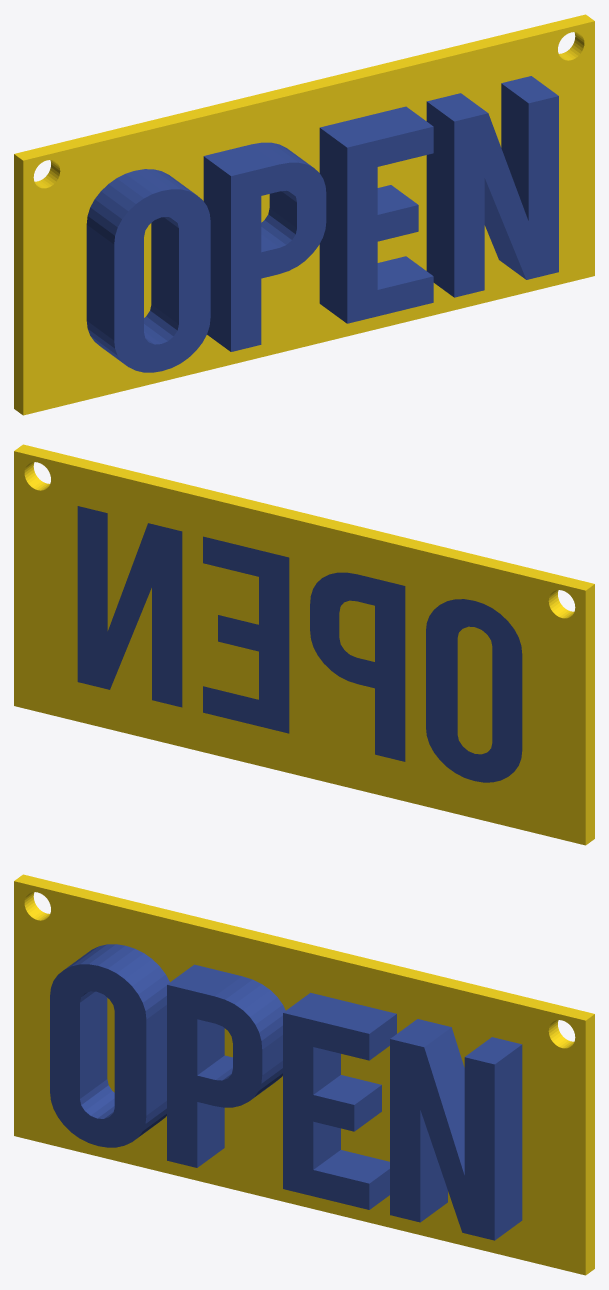
The model's file is tinker.obj.
3 renders of one model, top to bottom at view 1: azimuth 30°, elevation 25°; view 2: azimuth 150°, elevation 25°; view 3: azimuth 330°, elevation 25°, orthographic.
Parts seen in each view (by area): view 1: group_0_3888547, group_0_16768282; view 2: group_0_16768282, group_0_3888547; view 3: group_0_3888547, group_0_16768282.
Part boxes in pixels (box(x1,y1,x2,y2)): group_0_3888547: box(86, 76, 558, 372); group_0_16768282: box(14, 14, 594, 415); group_0_16768282: box(14, 444, 594, 845); group_0_3888547: box(77, 506, 522, 782); group_0_3888547: box(50, 944, 522, 1240); group_0_16768282: box(14, 874, 594, 1275).
Size of the model in its own units: 108 by 46 by 12.
